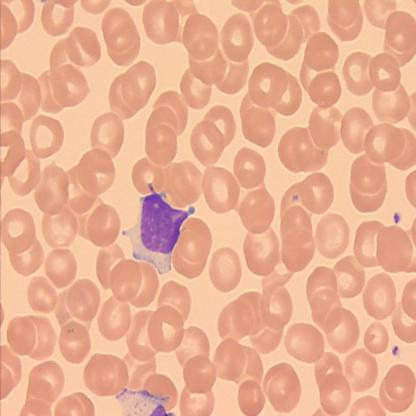Atypical lymphocyte: (121, 183, 197, 276)
